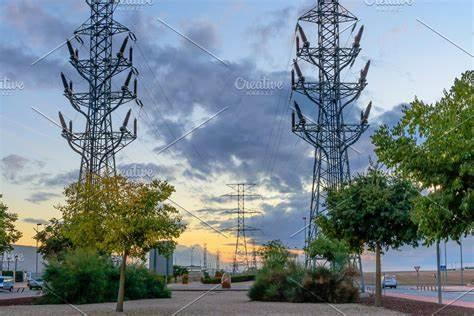power_tower: (293, 0, 381, 289), (54, 1, 143, 235)
